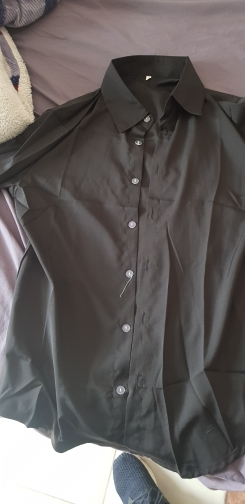shirts: (4, 49, 245, 458)
